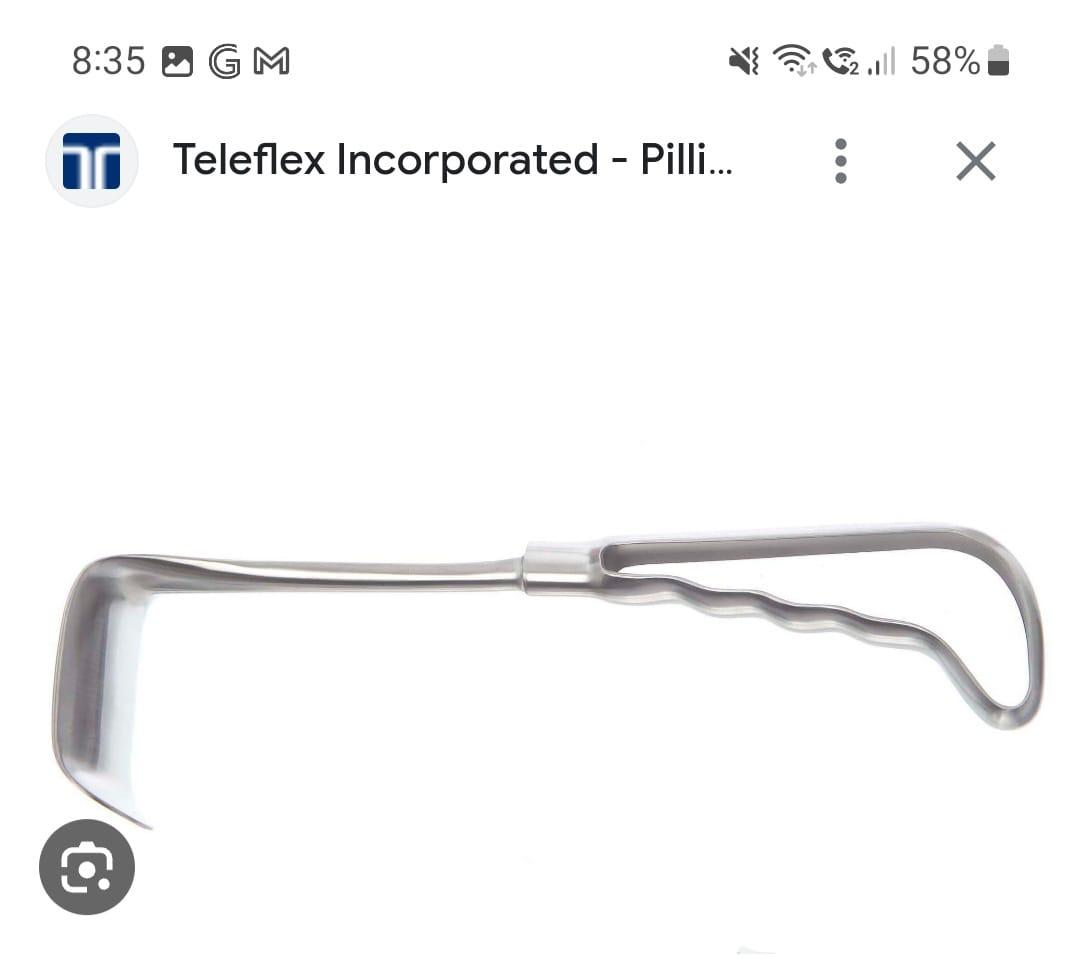Kelly Retractor: (46, 504, 1054, 841)
